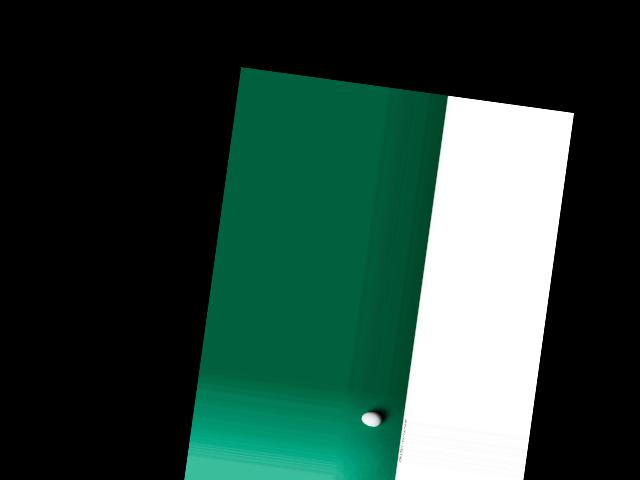egg: (360, 411, 383, 428)
